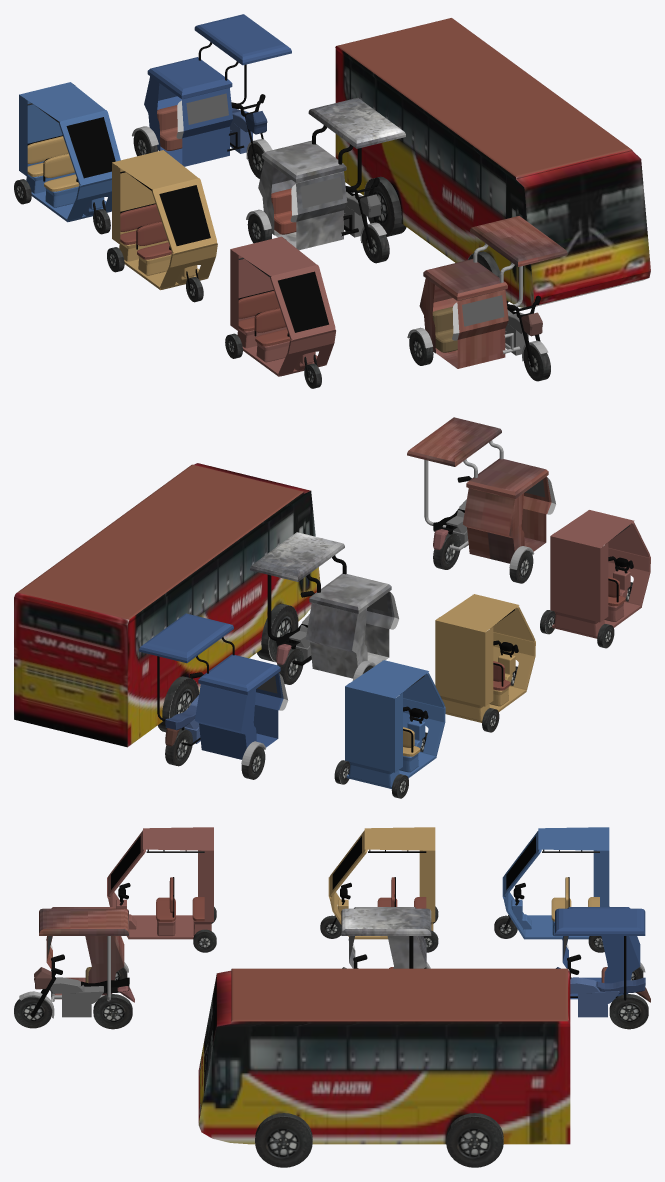
The model's file is bus_trike_betterEbike.glb.
The picture shows the model from 3 angles, top to bottom: view 1: azimuth 30°, elevation 25°; view 2: azimuth 150°, elevation 25°; view 3: azimuth 270°, elevation 25°; orthographic projection. The views are drawn at different scales.
Parts seen in each view (by area): view 1: bus, yellow_ebike, red_ebike, Cube.041, Plane.015, Plane.009, Plane.003, Plane.002, Plane.014, Plane.010, Gtrike, Plane.013 (+10 smaller); view 2: bus, red_ebike, Cube.041, yellow_ebike, Plane.003, Plane.015, Plane.009, Plane.010, Plane.002, Plane.014, Plane.013, Gtrike (+6 smaller); view 3: bus, red_ebike, Cube.041, yellow_ebike, Plane.002, Plane.010, Plane.014, Plane.019, Plane.003, Plane.015, Plane.013, Plane.009 (+3 smaller).
Part boxes in pixels (x1,y1,x2,y2): bus: [335, 18, 650, 307]; yellow_ebike: [107, 150, 217, 302]; red_ebike: [225, 236, 335, 388]; Cube.041: [14, 82, 120, 234]; Plane.015: [419, 259, 508, 368]; Plane.009: [258, 140, 347, 250]; Plane.003: [144, 57, 232, 166]; Plane.002: [194, 14, 291, 65]; Plane.014: [470, 216, 567, 266]; Plane.010: [308, 97, 405, 148]; Gtrike: [312, 125, 379, 248]; Plane.013: [230, 108, 267, 153]; bus: [14, 463, 320, 747]; red_ebike: [540, 510, 650, 648]; Cube.041: [334, 660, 445, 798]; yellow_ebike: [435, 594, 535, 732]; Plane.003: [195, 654, 288, 759]; Plane.015: [463, 458, 555, 563]; Plane.009: [306, 573, 398, 678]; Plane.010: [250, 532, 344, 581]; Plane.002: [139, 613, 233, 663]; Plane.014: [407, 417, 501, 466]; Plane.013: [165, 695, 200, 743]; Gtrike: [267, 555, 346, 665]; bus: [198, 968, 570, 1167]; red_ebike: [107, 827, 216, 952]; Cube.041: [494, 827, 609, 952]; yellow_ebike: [320, 827, 438, 952]; Plane.002: [555, 908, 645, 935]; Plane.010: [341, 908, 431, 935]; Plane.014: [39, 908, 128, 935]; Plane.019: [34, 967, 129, 1017]; Plane.003: [562, 907, 640, 999]; Plane.015: [46, 907, 124, 999]; Plane.013: [556, 967, 645, 1017]; Plane.009: [348, 907, 426, 968].
Size of the model in its own units: 2.71 by 1.03 by 3.77.
63 materials, 15 textured.
